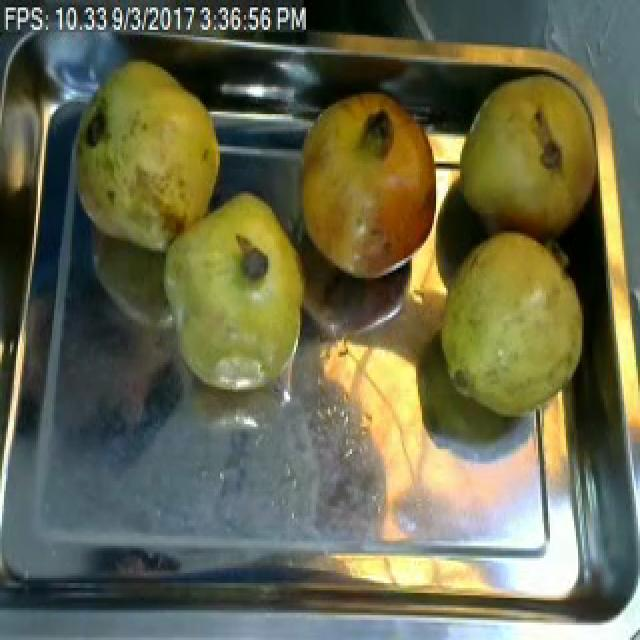fruit: (148, 183, 316, 404), (288, 84, 448, 293), (68, 52, 228, 258), (432, 223, 588, 429), (452, 64, 608, 250)
